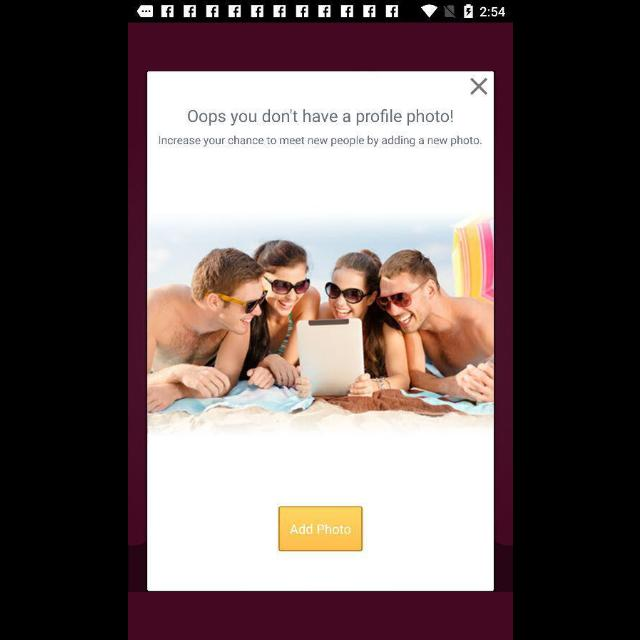icon: (469, 78, 486, 95)
image: (147, 207, 493, 441)
panel: (146, 73, 494, 592)
text: (188, 110, 452, 126), (158, 136, 482, 148)
textbutton: (278, 507, 362, 551)
uppertaskbar: (128, 1, 512, 23)
